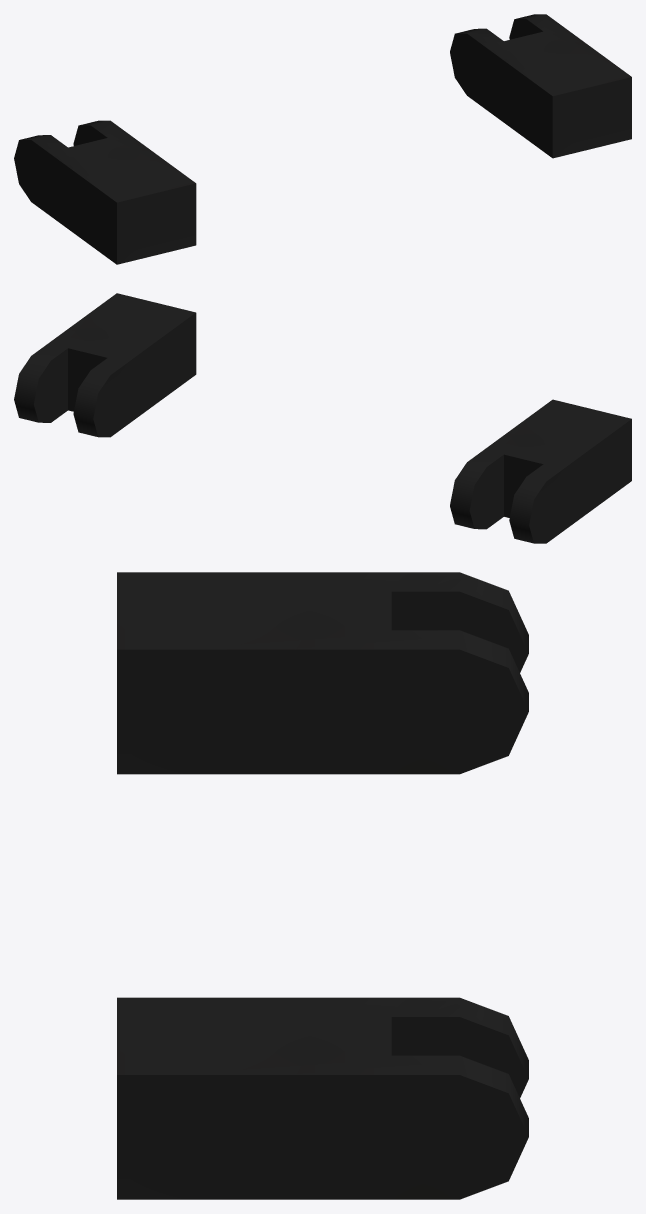
Rendered from 1f_solar_srf_1_base.obj.
The picture shows the model from 3 angles, top to bottom: view 1: azimuth 30°, elevation 25°; view 2: azimuth 150°, elevation 25°; view 3: azimuth 270°, elevation 25°; orthographic projection. The views are drawn at different scales.
Visible parts, largest first — view 1: base1; view 2: base1; view 3: base1.
Boxes of the visible parts, x1,y1,x2,y2 form: base1: (14, 14, 631, 264); base1: (14, 293, 631, 543); base1: (117, 572, 528, 1199).
Bounding box in the file's own units: 0.325 × 0.0375 × 0.1125.
